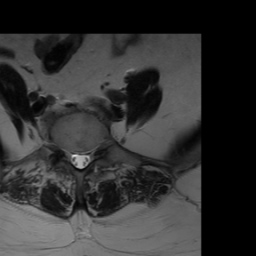CCS_stenosis: (76, 145, 82, 175)
LFS_normal: (90, 138, 98, 167)
LLS_normal: (82, 144, 90, 171)
RFS_normal: (61, 140, 69, 167)
RLS_normal: (69, 144, 76, 171)
